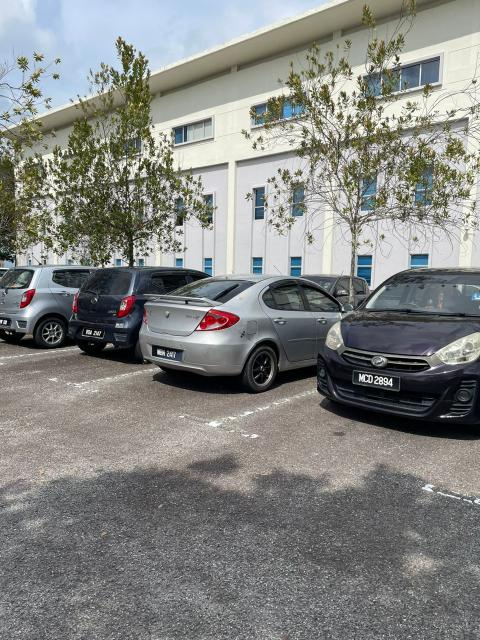License_Plate: (350, 371, 402, 392), (150, 340, 183, 366), (81, 326, 107, 339)
car: (136, 273, 362, 393), (321, 266, 480, 435), (71, 264, 224, 358), (2, 261, 117, 353)
